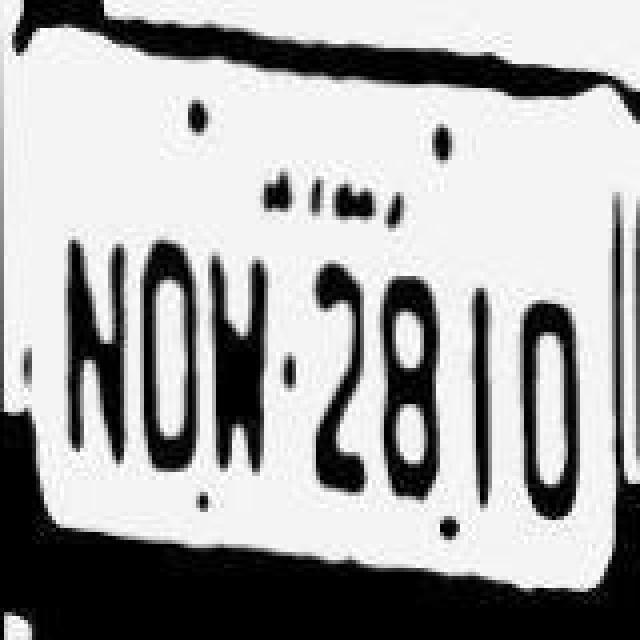1: (460, 268, 504, 520)
2: (302, 256, 374, 508)
8: (376, 264, 444, 516)
N: (48, 220, 132, 484)
O: (518, 274, 590, 534), (132, 230, 200, 482)
W: (198, 224, 270, 484)
